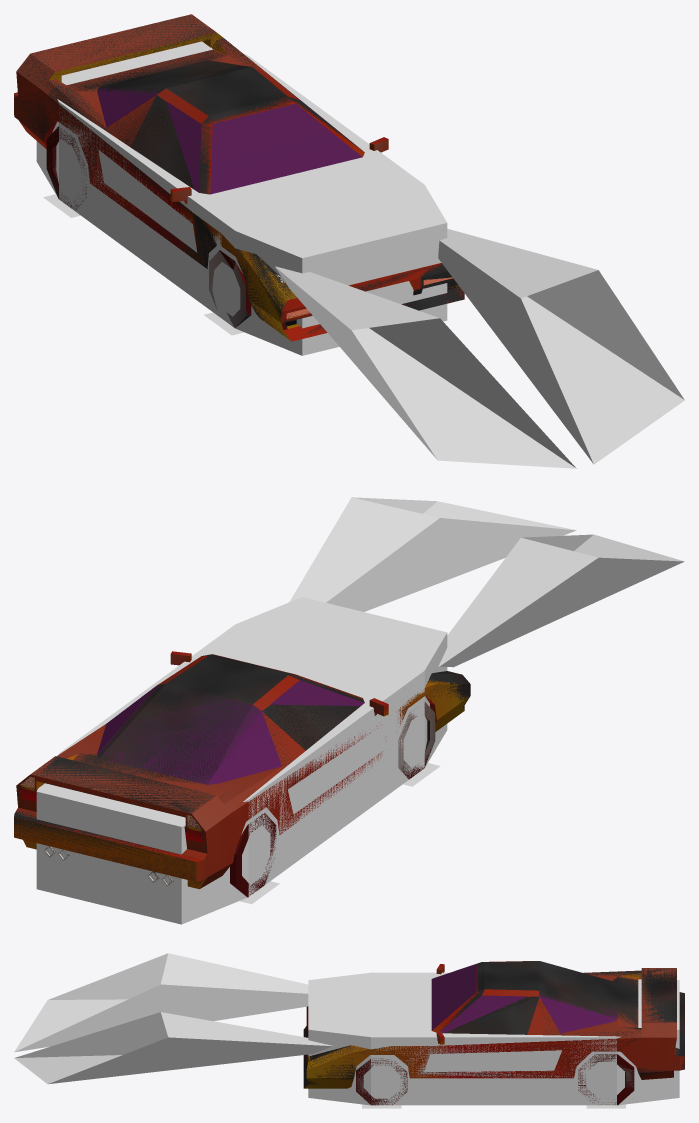
The model's file is Apex.fbx.
3 views of the same model, one above another, from view 1: azimuth 30°, elevation 25°; view 2: azimuth 150°, elevation 25°; view 3: azimuth 270°, elevation 25° (orthographic). The views are drawn at different scales.
Visible parts, largest first — view 1: apex_gr, apex_cldr, apex, apex_dead, apex_lckd, apex_frontwheels; view 2: apex_cldr, apex, apex_gr, apex_dead, apex_lckd, apex_frontwheels; view 3: apex_cldr, apex_gr, apex, apex_dead, apex_lckd, apex_frontwheels, apex_rearwheels, TireSmokeMesh.
Boxes of the visible parts, <box> form: apex_gr: <box>275,228,684,468</box>; apex_cldr: <box>36,41,447,355</box>; apex: <box>14,14,464,341</box>; apex_dead: <box>14,14,464,335</box>; apex_lckd: <box>46,106,251,316</box>; apex_frontwheels: <box>209,251,250,327</box>; apex_cldr: <box>36,597,447,924</box>; apex: <box>14,651,468,889</box>; apex_gr: <box>289,497,684,667</box>; apex_dead: <box>14,654,470,887</box>; apex_lckd: <box>230,703,432,897</box>; apex_frontwheels: <box>398,702,435,778</box>; apex_cldr: <box>308,972,679,1105</box>; apex_gr: <box>14,953,332,1084</box>; apex: <box>304,961,684,1088</box>; apex_dead: <box>303,961,684,1087</box>; apex_lckd: <box>356,996,634,1105</box>; apex_frontwheels: <box>356,1058,405,1104</box>; apex_rearwheels: <box>578,1054,634,1089</box>; TireSmokeMesh: <box>362,1104,625,1108</box>.
Size of the model in its own units: 4.46 by 2.4 by 15.01.
